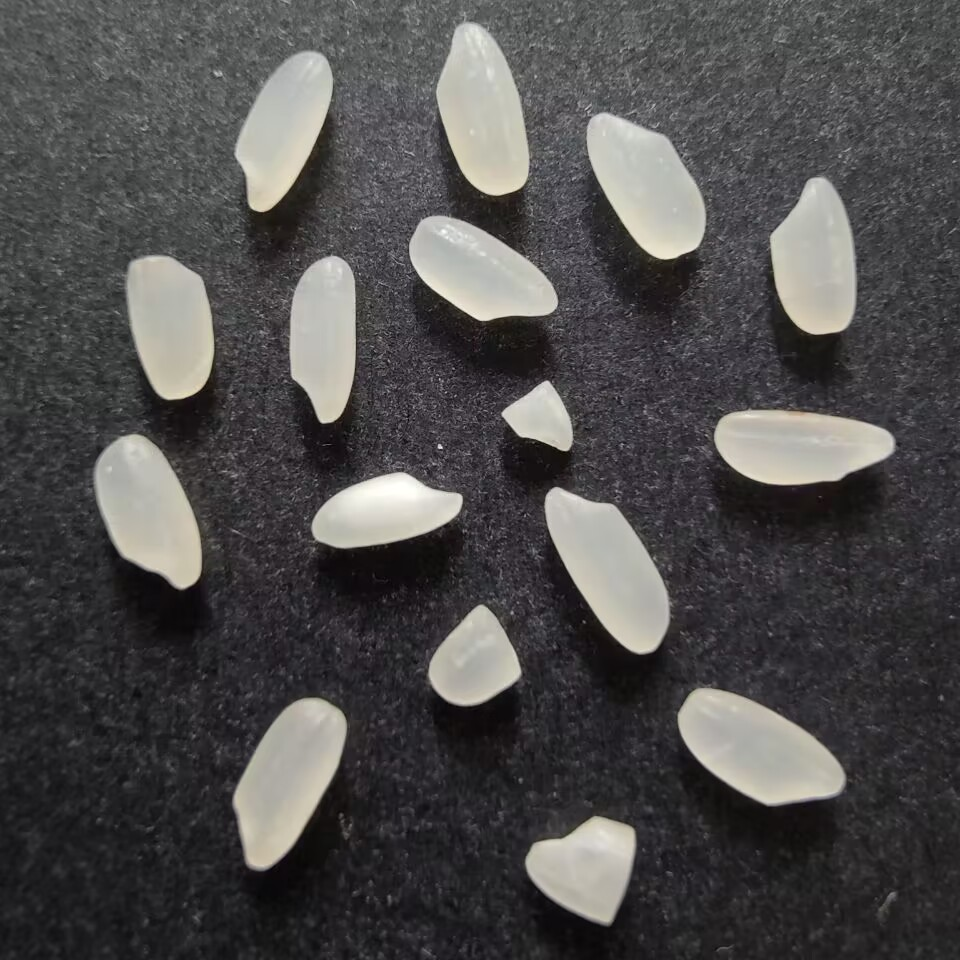broken: (514, 811, 641, 931), (421, 599, 526, 710), (494, 380, 578, 456)
rice: (539, 483, 676, 655), (227, 694, 353, 880), (676, 681, 847, 813), (579, 106, 710, 263), (89, 429, 207, 593), (432, 16, 535, 199), (229, 48, 337, 220), (406, 212, 561, 327), (762, 172, 864, 338), (712, 404, 902, 488), (119, 251, 218, 403), (305, 466, 469, 554), (281, 251, 359, 430)
